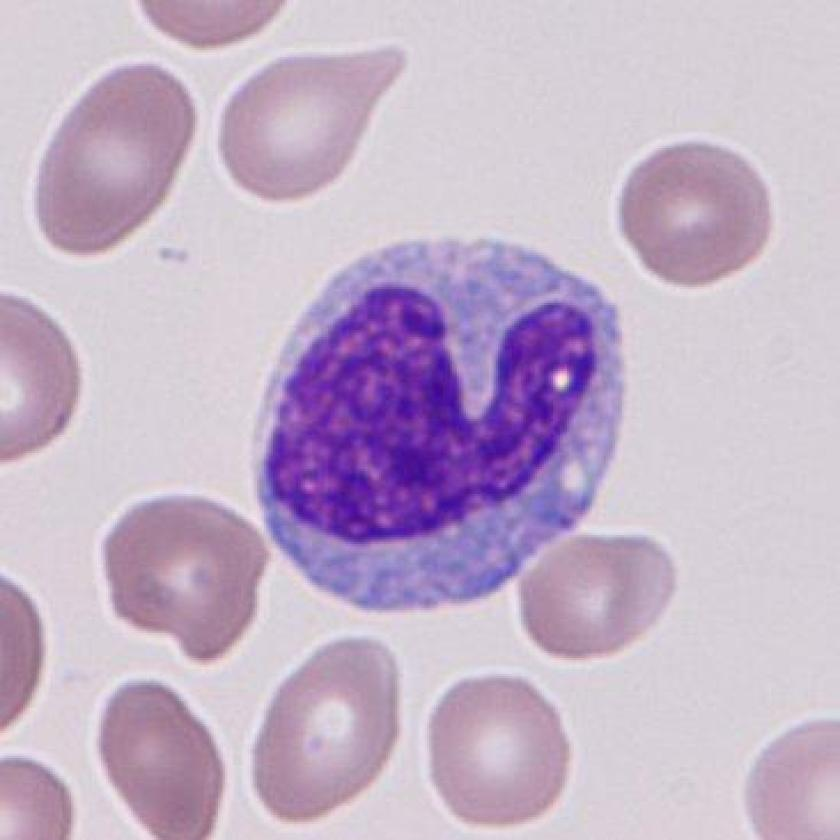monocyte: (235, 218, 648, 639)
